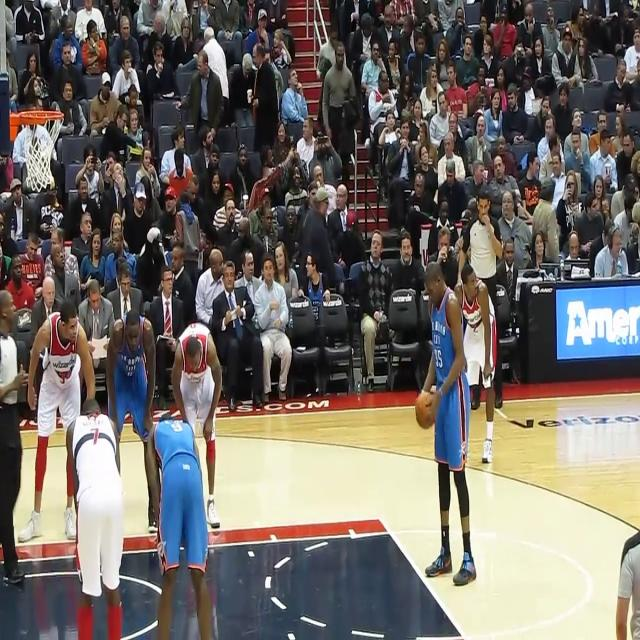ball: (414, 391, 438, 431)
